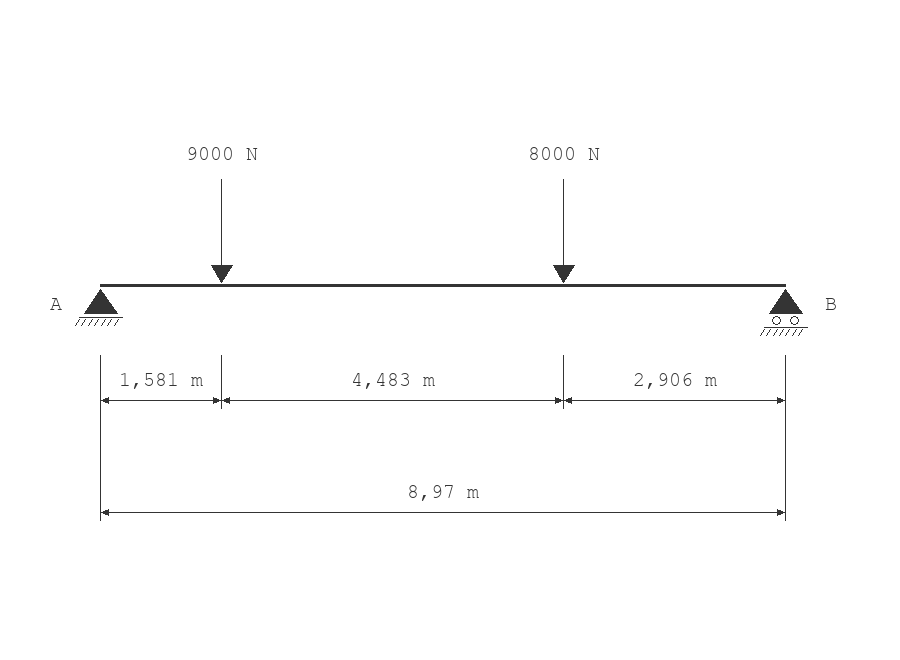pin_support: (75, 289, 123, 326)
point_load: (211, 179, 233, 283), (553, 179, 575, 283)
roller_support: (760, 289, 808, 336)
